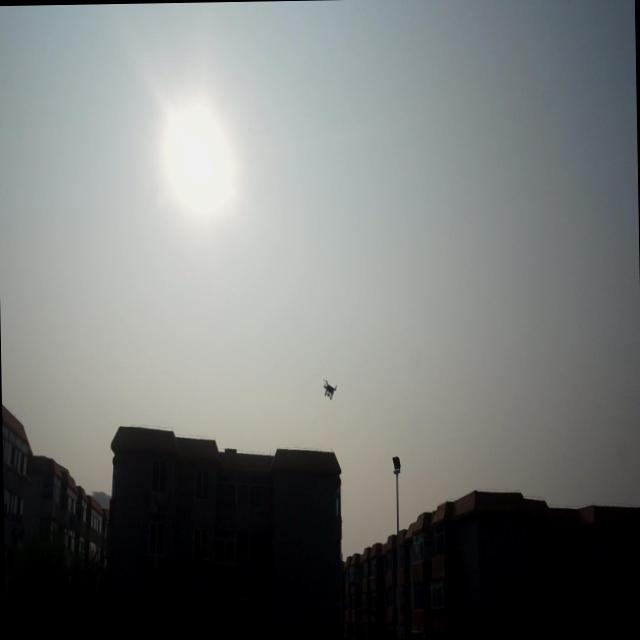drone: (319, 376, 339, 401)
